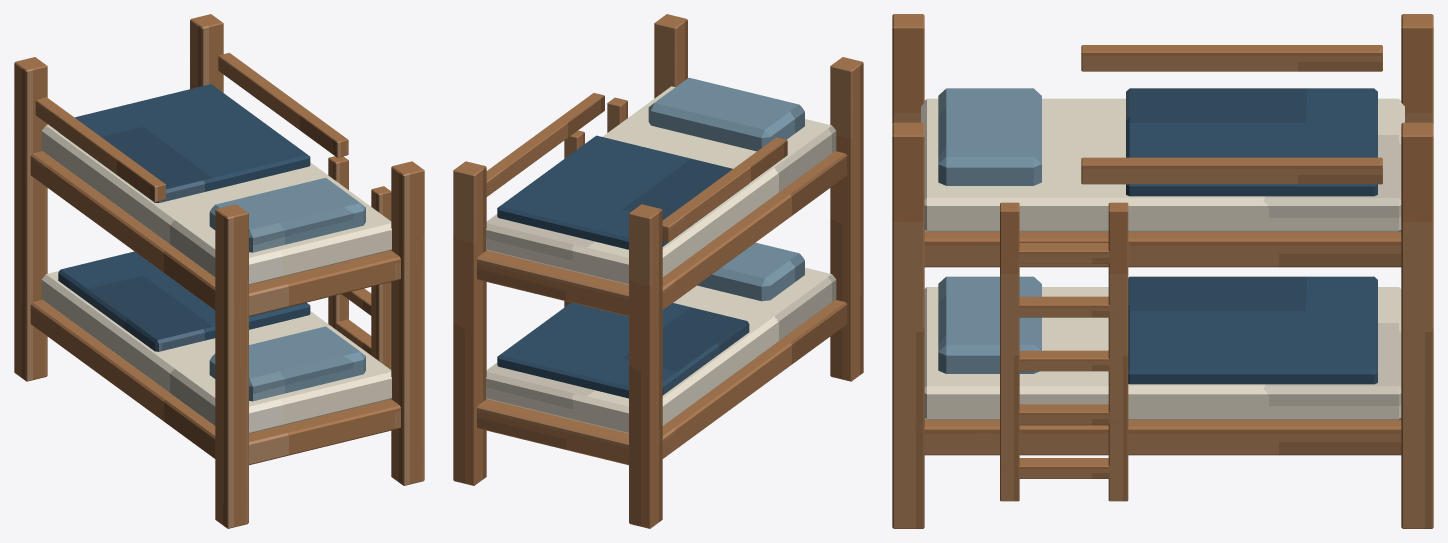
The model's file is bunk_bed_wood.glb.
3 views of the same model, side by side, from view 1: azimuth 30°, elevation 25°; view 2: azimuth 150°, elevation 25°; view 3: azimuth 270°, elevation 25° (orthographic). The views are drawn at different scales.
Visible parts, largest first — view 1: Blanket_1, Mattress_1, Mattress_0, BedFrame_1, BedFrame_0, Post_-0.52_-1.03, Post_0.52_-1.03, Blanket_0, Post_-0.52_1.03, Pillow_1, Pillow_0, GuardRail_0.54 (+5 smaller); view 2: Mattress_1, Blanket_1, Mattress_0, Blanket_0, BedFrame_1, BedFrame_0, Post_-0.52_1.03, Post_0.52_1.03, Post_-0.52_-1.03, Pillow_1, Pillow_0, GuardRail_-0.54 (+3 smaller); view 3: Mattress_1, Blanket_0, Mattress_0, Blanket_1, BedFrame_0, BedFrame_1, Post_0.52_1.03, Post_0.52_-1.03, Pillow_1, GuardRail_0.54, GuardRail_-0.54, Pillow_0 (+9 smaller).
Boxes of the visible parts, x1=… form: Blanket_1: x1=59, y1=84, x2=310, y2=203; Mattress_1: x1=41, y1=125, x2=391, y2=284; Mattress_0: x1=41, y1=271, x2=391, y2=433; BedFrame_1: x1=30, y1=151, x2=400, y2=316; BedFrame_0: x1=30, y1=299, x2=400, y2=465; Post_-0.52_-1.03: x1=215, y1=204, x2=248, y2=528; Post_0.52_-1.03: x1=391, y1=161, x2=424, y2=485; Blanket_0: x1=58, y1=251, x2=310, y2=351; Post_-0.52_1.03: x1=14, y1=57, x2=47, y2=381; Pillow_1: x1=209, y1=177, x2=365, y2=252; Pillow_0: x1=209, y1=326, x2=365, y2=401; GuardRail_0.54: x1=218, y1=52, x2=348, y2=157; Mattress_1: x1=486, y1=86, x2=836, y2=284; Blanket_1: x1=497, y1=135, x2=747, y2=249; Mattress_0: x1=486, y1=267, x2=836, y2=433; Blanket_0: x1=497, y1=302, x2=749, y2=398; BedFrame_1: x1=477, y1=151, x2=847, y2=316; BedFrame_0: x1=477, y1=299, x2=847, y2=465; Post_-0.52_1.03: x1=629, y1=204, x2=662, y2=528; Post_0.52_1.03: x1=453, y1=161, x2=486, y2=485; Post_-0.52_-1.03: x1=830, y1=57, x2=863, y2=381; Pillow_1: x1=648, y1=77, x2=804, y2=151; Pillow_0: x1=697, y1=242, x2=804, y2=301; GuardRail_-0.54: x1=662, y1=137, x2=787, y2=242; Mattress_1: x1=921, y1=98, x2=1404, y2=231; Blanket_0: x1=1128, y1=276, x2=1377, y2=384; Mattress_0: x1=924, y1=287, x2=1401, y2=419; Blanket_1: x1=1126, y1=88, x2=1377, y2=196; BedFrame_0: x1=924, y1=419, x2=1401, y2=455; BedFrame_1: x1=924, y1=231, x2=1401, y2=267; Post_0.52_1.03: x1=1401, y1=122, x2=1433, y2=528; Post_0.52_-1.03: x1=892, y1=122, x2=924, y2=528; Pillow_1: x1=938, y1=88, x2=1041, y2=185; GuardRail_0.54: x1=1081, y1=157, x2=1382, y2=184; GuardRail_-0.54: x1=1081, y1=45, x2=1382, y2=71; Pillow_0: x1=938, y1=276, x2=1041, y2=373.
Size of the model in its own units: 1.23 by 1.76 by 2.19.
Materials: 1 (1 with a texture image).
